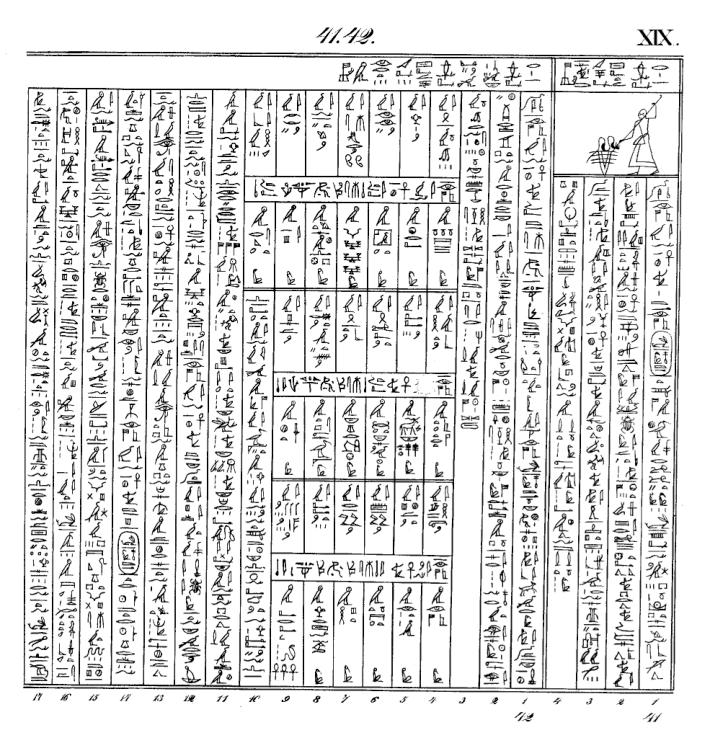circle: (113, 528, 147, 579), (647, 326, 677, 380)
